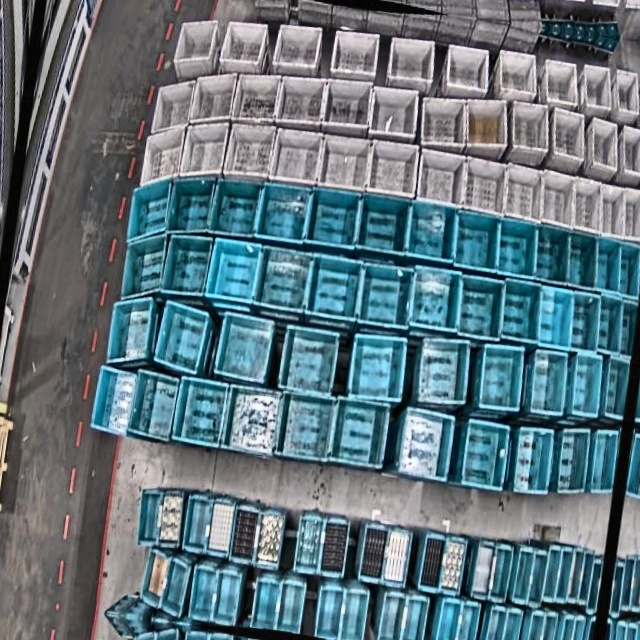Box: (276, 323, 342, 400), (345, 329, 410, 405), (212, 309, 276, 386), (151, 298, 211, 377), (222, 384, 285, 459), (301, 251, 365, 324), (326, 396, 389, 470), (396, 406, 456, 483), (252, 243, 314, 317), (171, 374, 231, 450), (414, 335, 473, 410), (302, 184, 364, 254), (278, 391, 336, 465), (123, 368, 180, 443), (203, 235, 262, 307), (354, 260, 414, 330), (159, 229, 216, 302), (407, 265, 465, 334), (255, 179, 313, 248), (163, 170, 219, 241), (352, 192, 411, 259), (206, 173, 263, 242), (402, 199, 460, 266), (220, 119, 276, 188), (136, 122, 190, 193), (459, 417, 510, 491), (269, 126, 325, 193), (105, 292, 153, 370), (474, 342, 526, 413), (120, 230, 168, 306), (87, 365, 138, 436), (455, 274, 508, 341), (448, 208, 502, 273), (180, 118, 233, 184), (126, 173, 173, 247), (365, 138, 422, 199), (413, 147, 469, 209), (366, 83, 422, 145), (317, 131, 373, 192), (318, 74, 374, 135), (416, 93, 473, 152), (228, 68, 283, 128), (275, 71, 330, 131), (510, 424, 557, 494), (497, 278, 546, 345), (526, 348, 572, 417), (187, 67, 238, 129), (459, 156, 510, 216), (493, 46, 544, 106), (492, 217, 540, 280), (461, 95, 514, 152), (149, 75, 195, 139), (536, 55, 586, 113), (501, 162, 548, 223), (554, 426, 594, 497), (532, 286, 575, 350), (535, 170, 579, 231), (530, 223, 572, 285), (565, 177, 608, 237), (508, 100, 555, 153), (568, 352, 605, 419), (272, 22, 323, 70), (330, 28, 381, 76), (387, 36, 438, 84), (172, 15, 219, 67), (562, 229, 602, 290), (592, 183, 633, 241), (219, 18, 268, 65), (565, 291, 602, 353), (548, 107, 591, 160), (445, 45, 493, 92), (600, 356, 633, 422), (294, 512, 328, 576), (591, 234, 627, 294), (590, 429, 622, 496), (179, 492, 213, 555), (251, 506, 284, 570), (154, 486, 187, 550), (605, 66, 640, 126), (204, 496, 237, 559), (229, 504, 262, 566), (592, 295, 626, 355), (586, 117, 623, 172), (318, 515, 350, 578), (357, 521, 389, 583), (159, 557, 191, 618), (133, 489, 165, 550), (418, 531, 448, 593), (381, 526, 411, 588), (139, 548, 169, 610), (187, 565, 219, 623), (578, 63, 617, 109), (313, 585, 345, 640), (440, 534, 468, 596), (250, 576, 282, 630), (212, 573, 242, 630), (276, 582, 307, 634), (470, 538, 496, 599), (340, 591, 371, 640), (490, 542, 515, 602), (376, 592, 407, 640), (526, 549, 550, 609), (615, 241, 640, 298), (400, 595, 430, 640), (514, 544, 536, 604), (554, 544, 576, 604), (542, 543, 564, 602), (617, 125, 640, 179), (566, 546, 587, 605), (577, 549, 597, 608), (435, 599, 463, 640), (619, 187, 640, 241), (454, 599, 481, 640), (585, 558, 603, 615), (482, 605, 509, 640), (499, 607, 524, 640), (522, 609, 545, 640), (537, 611, 559, 640), (556, 614, 577, 640), (567, 615, 586, 640), (634, 77, 640, 134), (583, 617, 596, 640), (637, 188, 640, 243)
